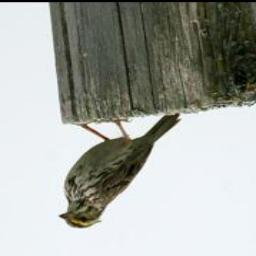Sparrow: (57, 110, 182, 230)
